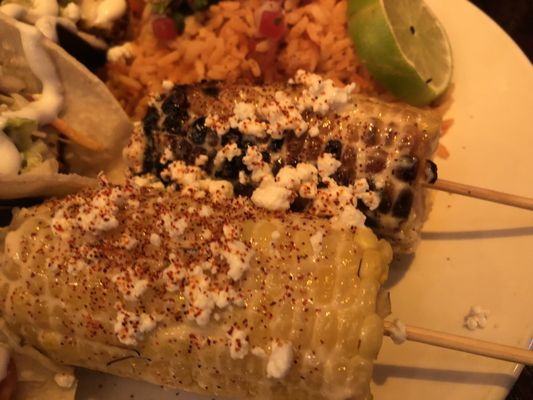sushi: (1, 2, 488, 400)
